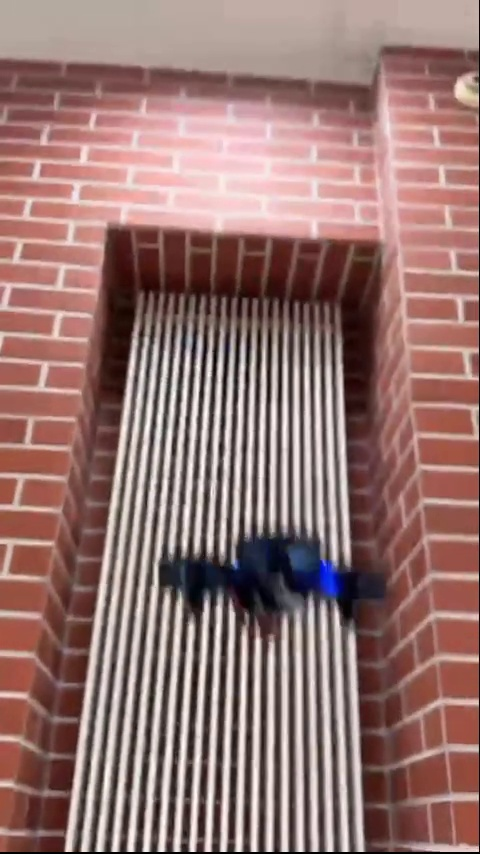drone: (156, 531, 388, 629)
